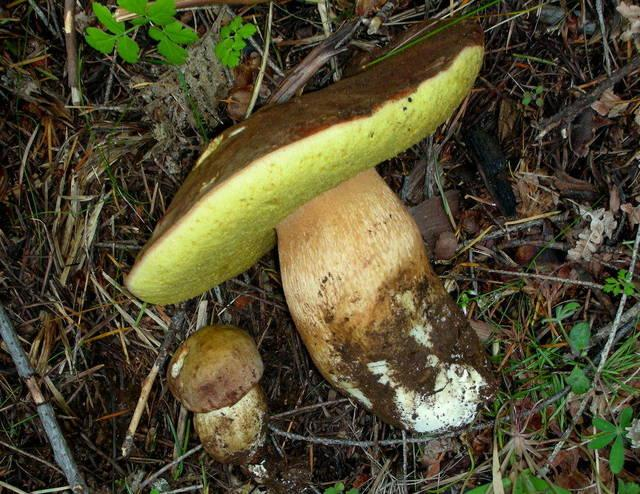edible_mushroom: (122, 16, 498, 437), (165, 323, 269, 464)
